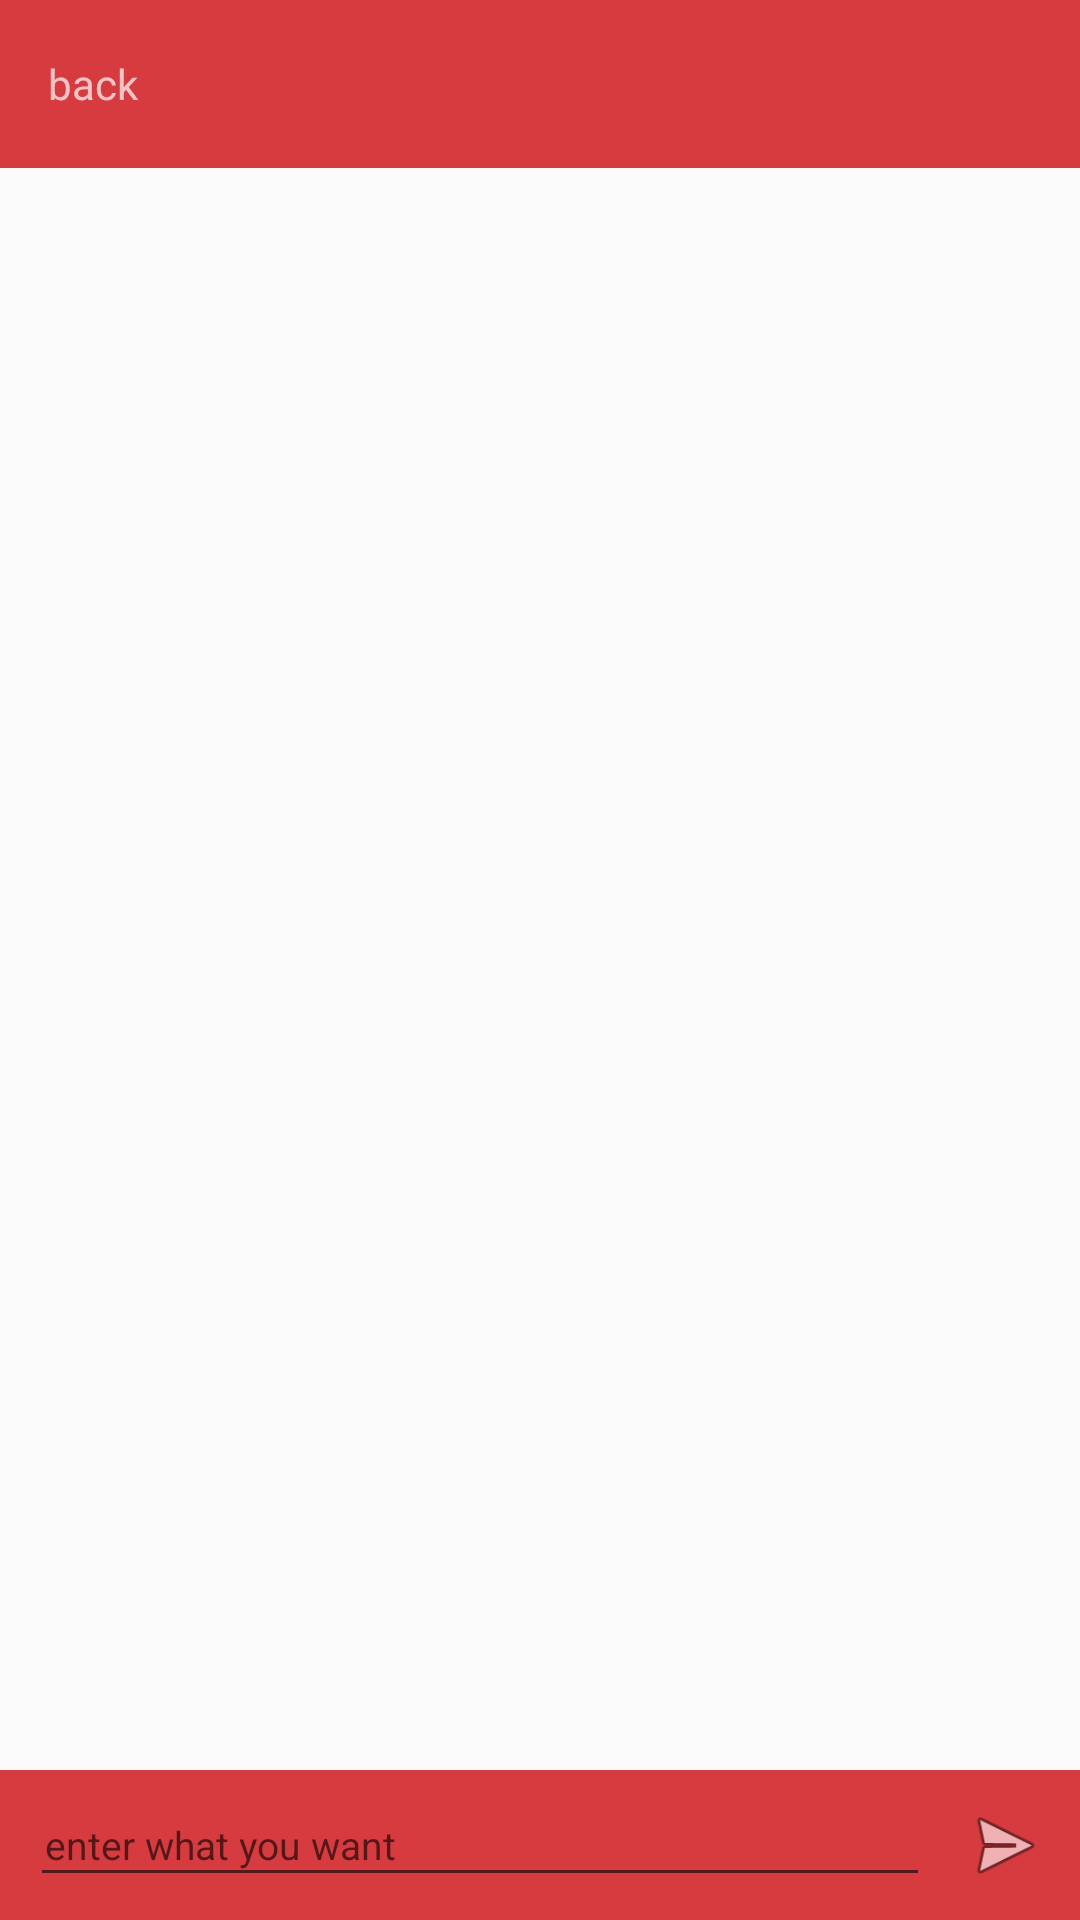

Screen size 1080px x 1920px. Icon name, then its box in pixels as {"x1": x1, "y1": y1, "x2": x2, "y2": y2}:
send: {"x1": 977, "y1": 1817, "x2": 1035, "y2": 1874}
